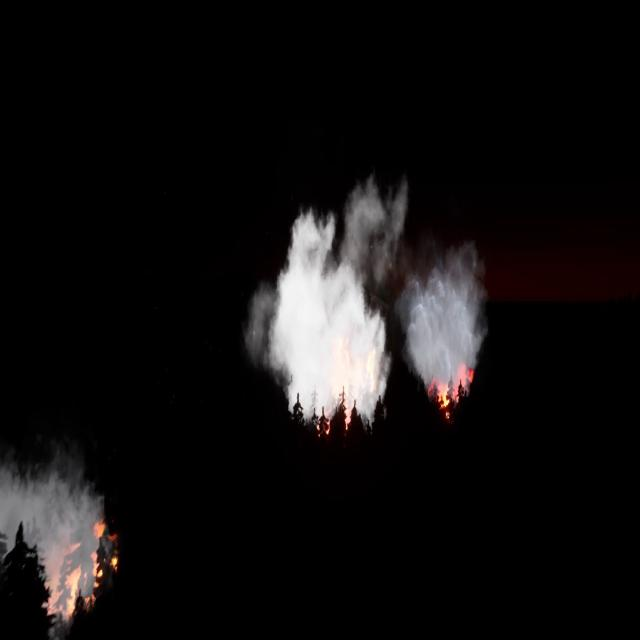fire: (47, 516, 119, 618), (309, 337, 371, 426), (428, 361, 475, 429)
smoke: (244, 176, 495, 406), (0, 467, 110, 639)
